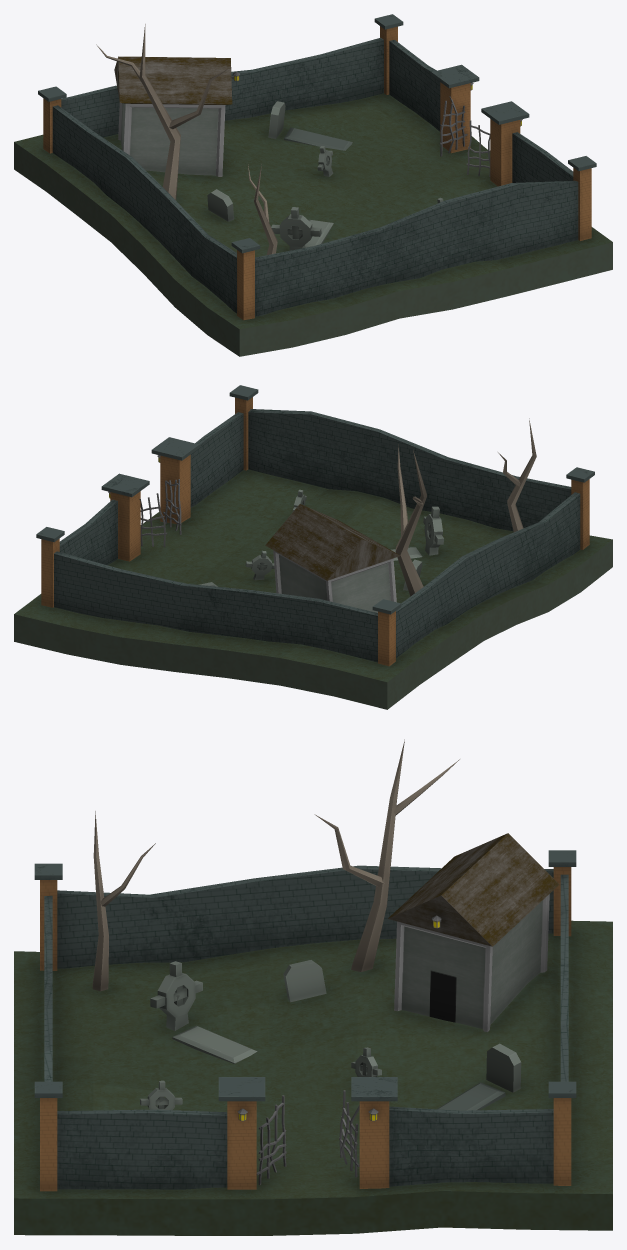
Rendered from Cemetery scene.glb.
The picture shows the model from 3 angles, top to bottom: view 1: azimuth 30°, elevation 25°; view 2: azimuth 150°, elevation 25°; view 3: azimuth 270°, elevation 25°; orthographic projection. The views are drawn at different scales.
Visible parts, largest first — view 1: Cementary_mesh; view 2: Cementary_mesh; view 3: Cementary_mesh.
Boxes of the visible parts, bbox=[...] form: Cementary_mesh: bbox=[14, 14, 612, 356]; Cementary_mesh: bbox=[14, 385, 612, 709]; Cementary_mesh: bbox=[14, 739, 612, 1235].
Size of the model in its own units: 22.86 by 12.82 by 23.91.
Materials: 1 (1 with a texture image).
